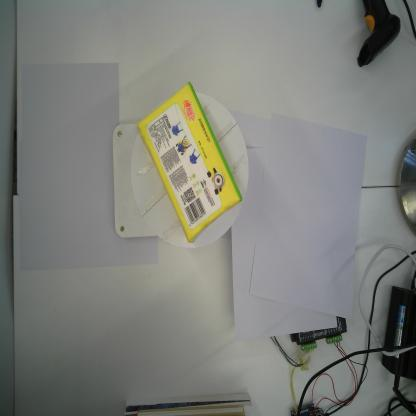Tissue: (134, 79, 244, 246)
